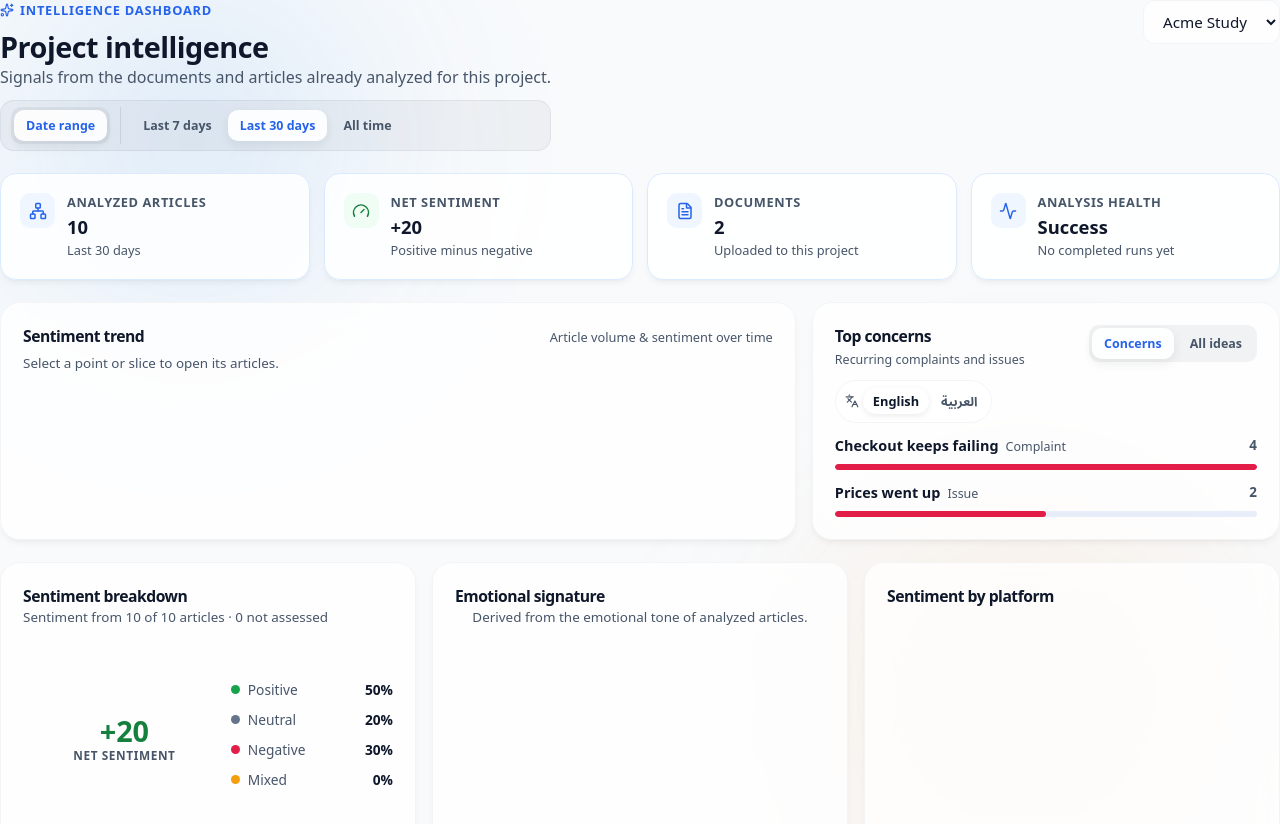
Test: DashboardOverview › lists only complaints and issues under Concerns, and every idea under All ideas
This screenshot has width=1280, height=824.
Expected: the text "Checkout keeps failing" is shown, [835,436,998,456]
Expected: the text "Prices went up" is shown, [835,483,940,503]
Click the tab "All ideas".
click(1216, 343)  # box [1178,328,1254,359]
(page scrolled)
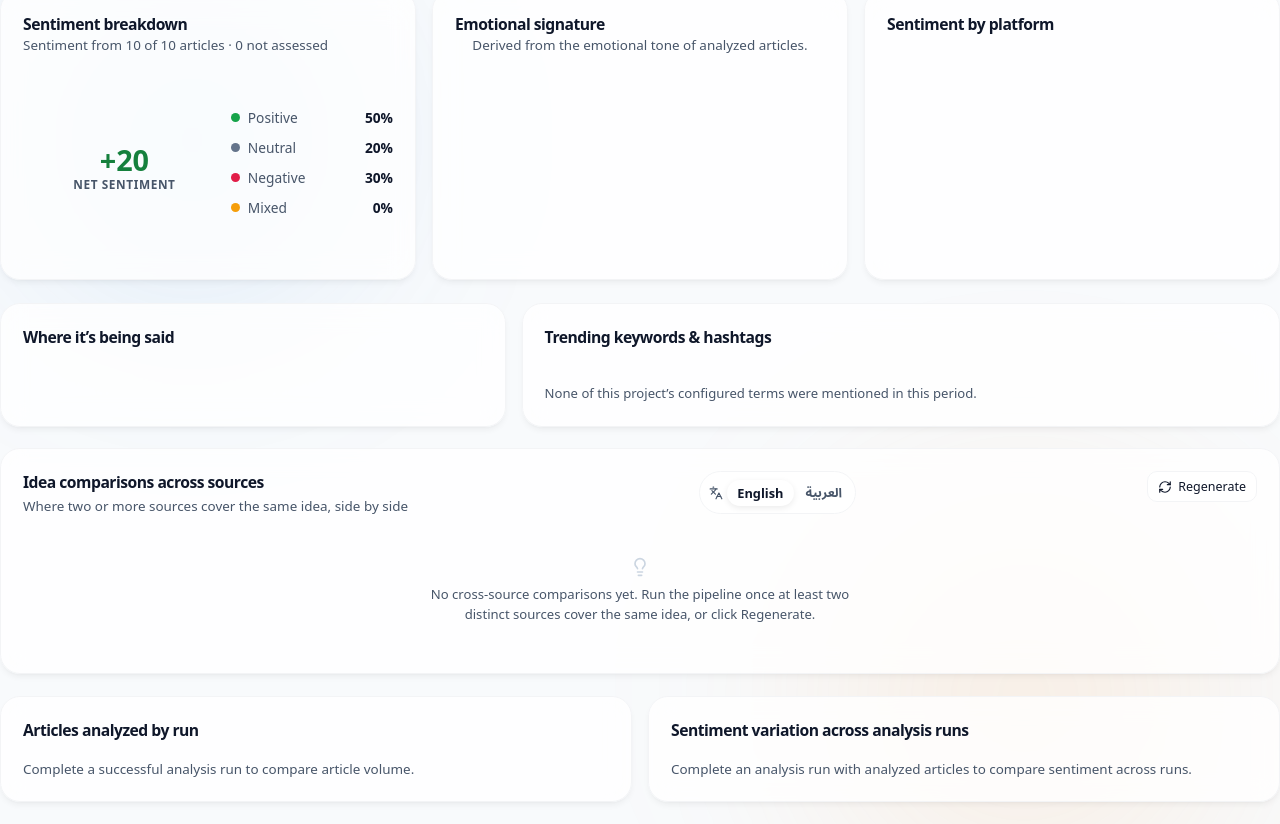
Result: the text "No cross-source comparisons yet" is shown at [431,585,849,623]
